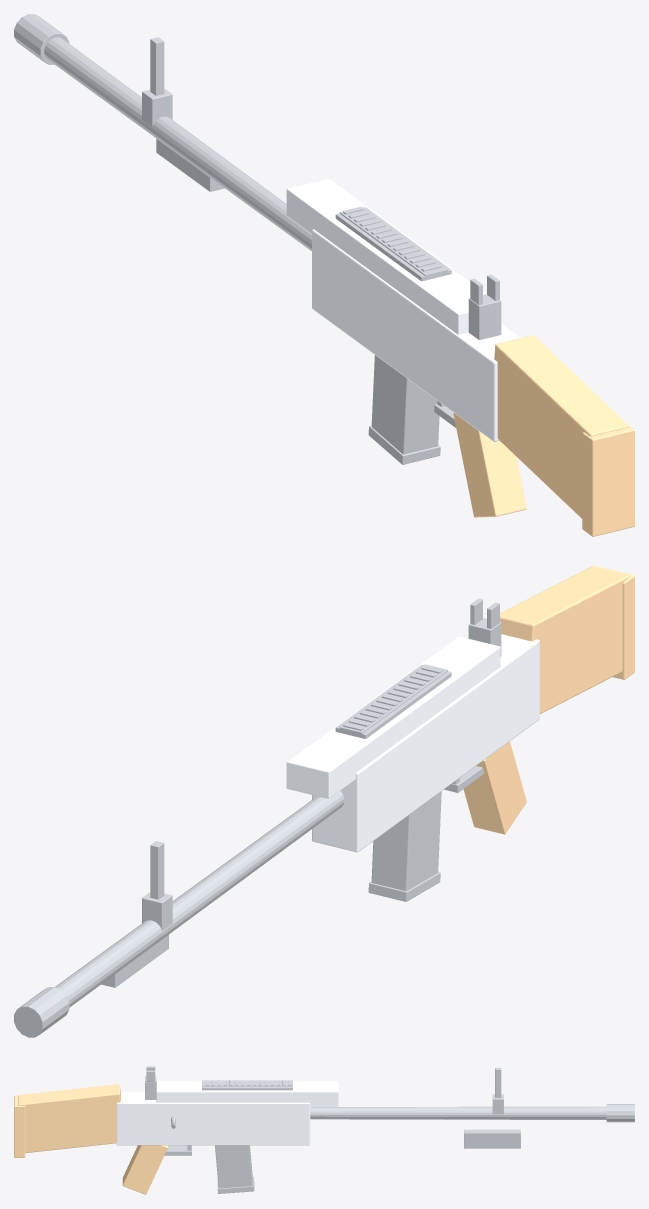
The picture shows the model from 3 angles, top to bottom: view 1: azimuth 30°, elevation 25°; view 2: azimuth 150°, elevation 25°; view 3: azimuth 270°, elevation 25°; orthographic projection. The views are drawn at different scales.
Parts seen in each view (by area): view 1: Receiver, StockGrip, ReceiverCover, Barrel, Stock, mag, Grip, StockIrons, TopRail, Muzzle, BayonetLug; view 2: Receiver, StockGrip, ReceiverCover, Barrel, mag, Grip, TopRail, StockIrons, Muzzle, Stock, BayonetLug; view 3: Receiver, StockGrip, Barrel, ReceiverCover, mag, Grip, BayonetLug, TopRail, StockIrons, Stock, Muzzle, TriggerGuard.
Part boxes in pixels (x1,y1,x2,y2): Receiver: (312, 229, 520, 441); StockGrip: (494, 335, 628, 518); ReceiverCover: (286, 178, 486, 334); Barrel: (44, 37, 311, 251); Stock: (582, 425, 634, 536); mag: (368, 355, 440, 464); Grip: (453, 413, 526, 517); StockIrons: (142, 37, 501, 340); TopRail: (335, 206, 451, 281); Muzzle: (14, 14, 69, 64); BayonetLug: (156, 139, 224, 191); Receiver: (312, 634, 539, 852); StockGrip: (500, 567, 628, 713); ReceiverCover: (286, 636, 500, 798); Barrel: (18, 791, 344, 1033); mag: (368, 791, 441, 901); Grip: (463, 741, 526, 834); TopRail: (335, 664, 451, 738); StockIrons: (142, 598, 501, 930); Muzzle: (14, 987, 69, 1037); Stock: (591, 565, 634, 679); BayonetLug: (101, 934, 168, 987); Receiver: (116, 1091, 310, 1145); StockGrip: (18, 1084, 120, 1153); Barrel: (310, 1106, 606, 1119); ReceiverCover: (156, 1081, 338, 1106); mag: (215, 1145, 254, 1193); Grip: (122, 1145, 167, 1194); BayonetLug: (464, 1129, 520, 1148); TopRail: (202, 1080, 292, 1090); StockIrons: (145, 1066, 503, 1114); Stock: (14, 1095, 25, 1157); Muzzle: (606, 1104, 634, 1122); TriggerGuard: (164, 1145, 191, 1155).
Size of the model in its own units: 0.0663 by 0.2364 by 1.09.
